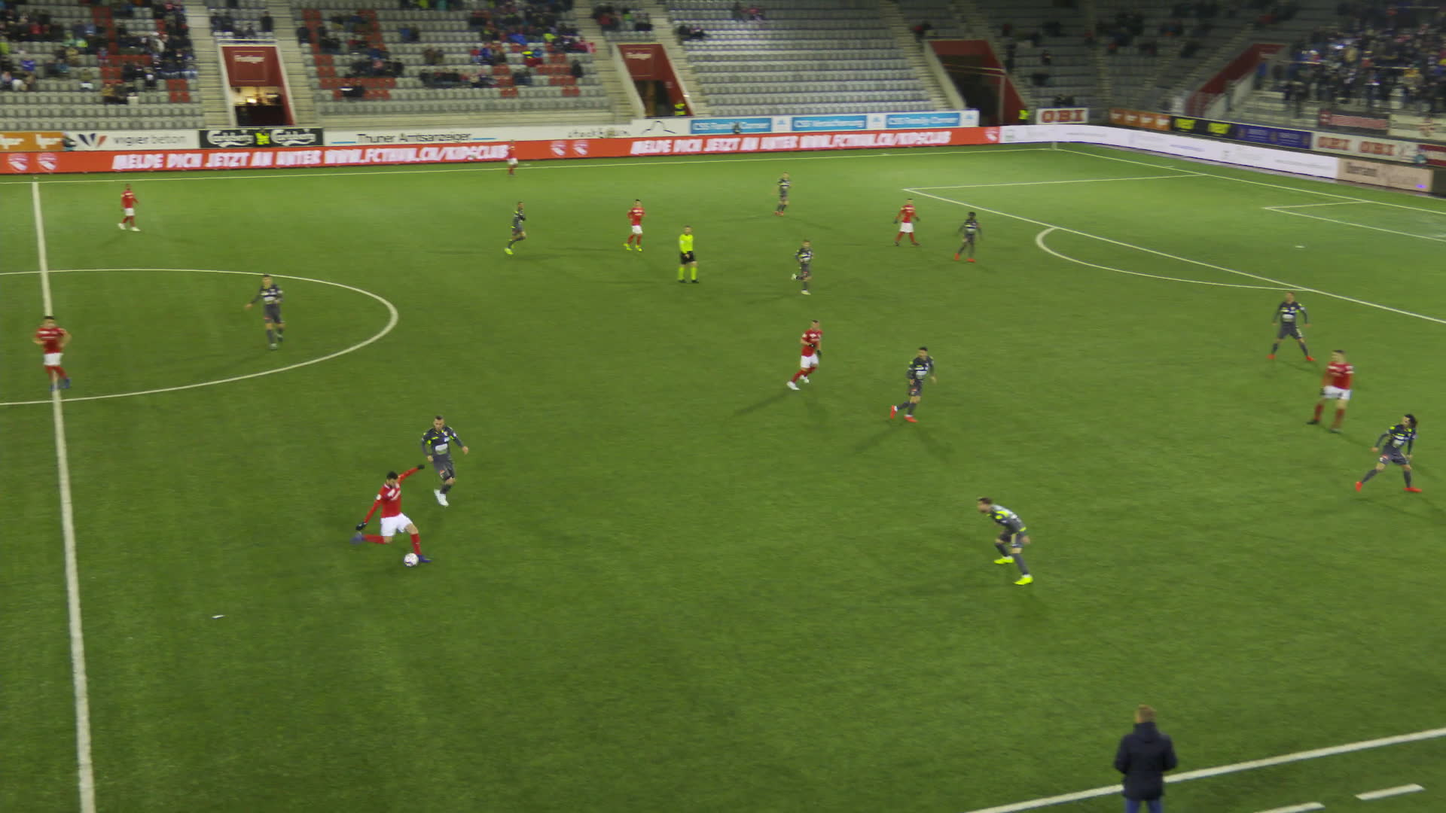ball: (402, 550, 426, 566)
player: (344, 467, 432, 558), (1353, 411, 1423, 495), (976, 494, 1030, 584), (419, 416, 465, 513), (1309, 348, 1356, 431), (887, 344, 935, 422), (1267, 290, 1312, 363), (246, 273, 285, 352), (35, 316, 73, 394), (786, 319, 823, 391), (950, 211, 983, 263), (789, 238, 815, 294), (499, 201, 526, 254), (893, 196, 920, 248), (623, 199, 647, 250), (117, 183, 141, 231), (773, 172, 792, 216), (502, 142, 517, 176)
referee: (680, 224, 703, 284)
